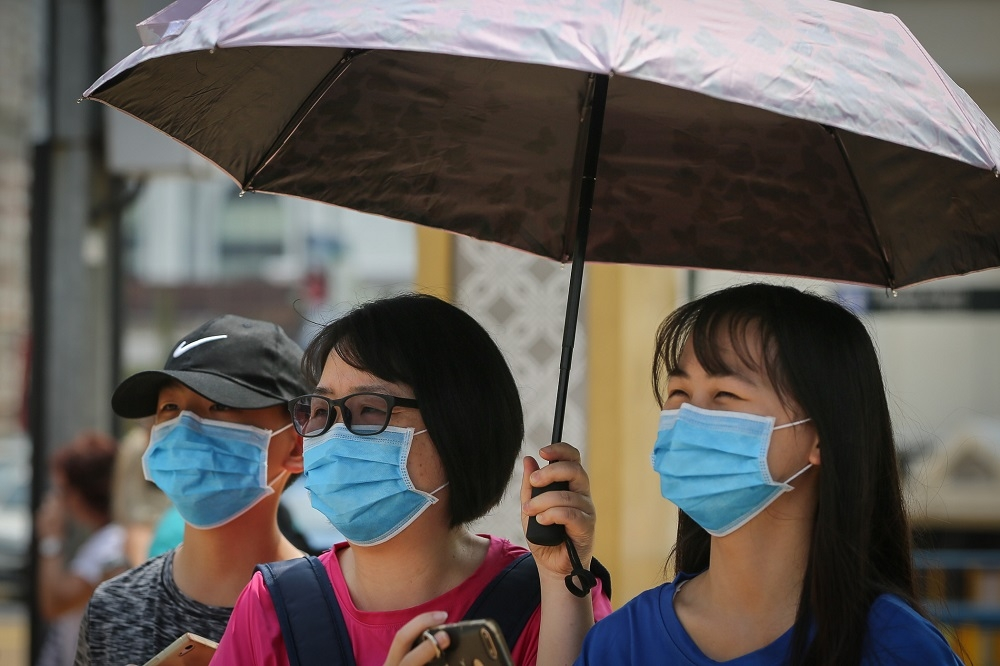surgical: (645, 395, 799, 539), (295, 424, 441, 553), (143, 410, 278, 532)
